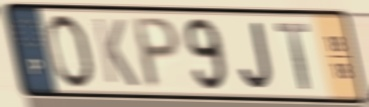9: (184, 15, 229, 94)
J: (238, 19, 275, 92)
K: (90, 15, 141, 90)
O: (45, 12, 97, 91)
P: (131, 14, 182, 92)
T: (273, 21, 313, 93)
